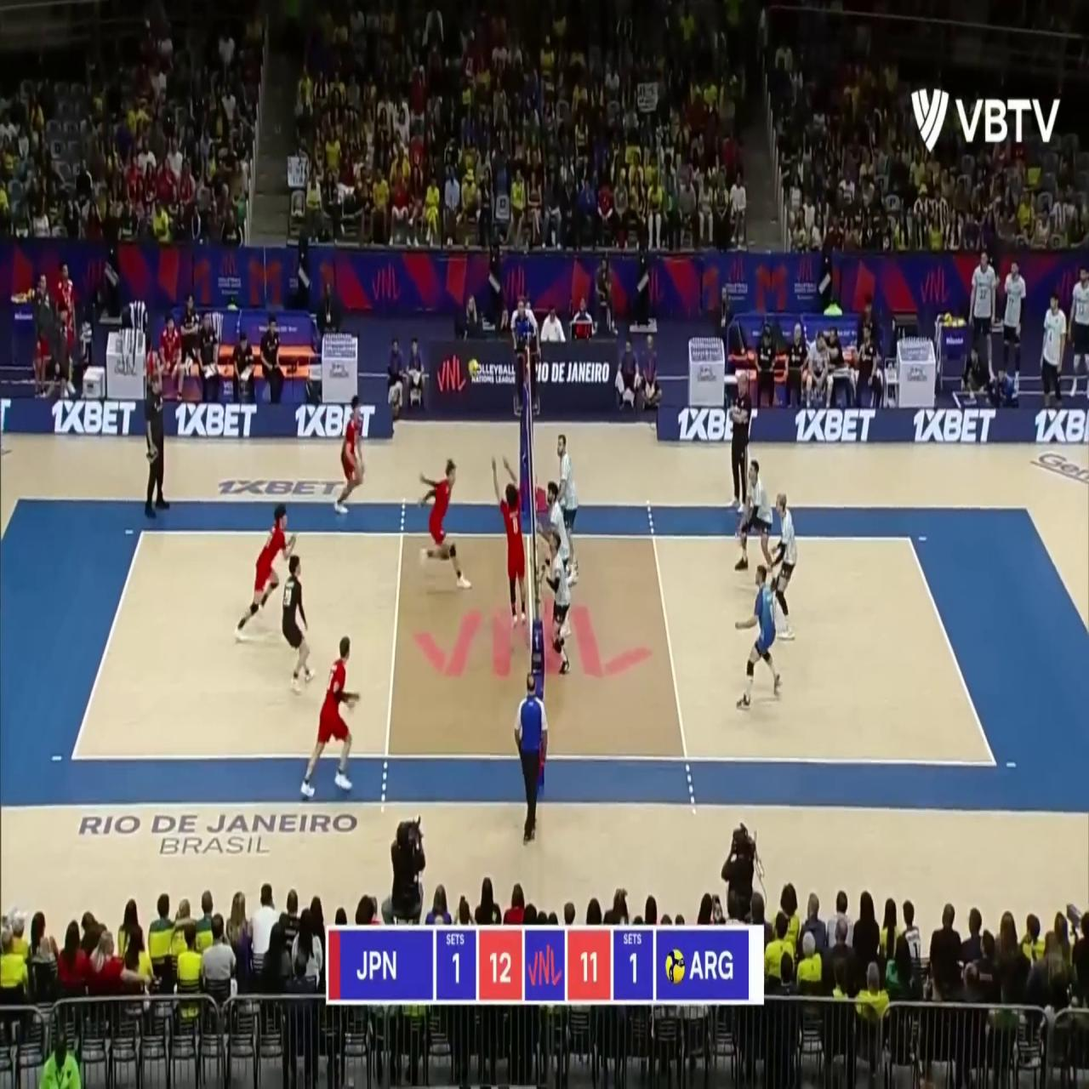ball: (469, 359, 479, 377)
